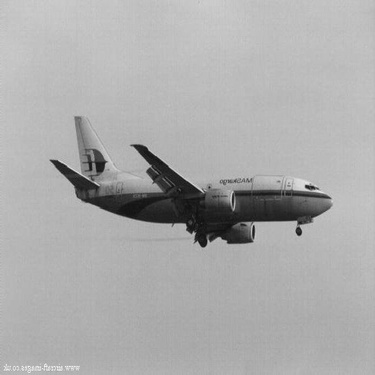airplane: (1, 101, 337, 256)
